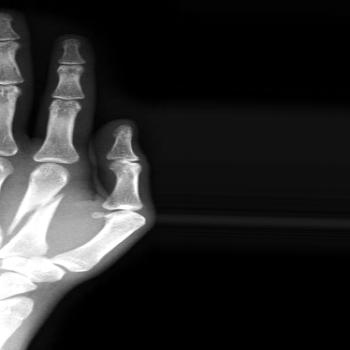Fracture: (0, 188, 67, 243)
